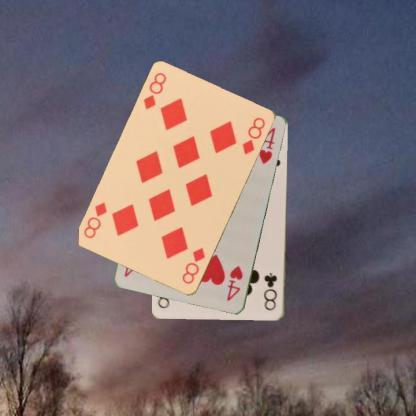4h: (224, 263, 245, 303)
8c: (261, 270, 279, 312)
8d: (141, 70, 168, 112), (180, 245, 207, 286)
